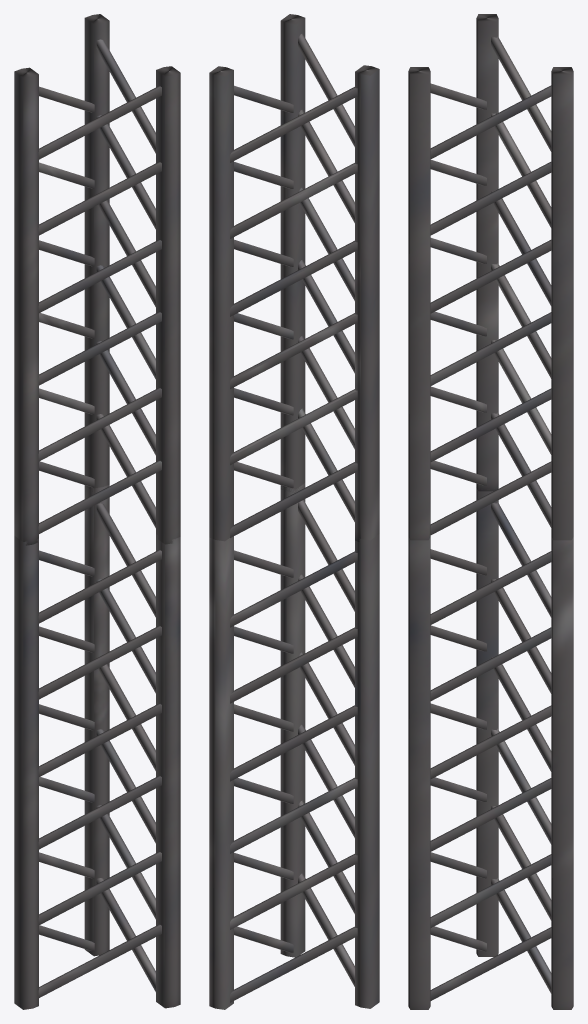
The model's file is TrackSuprtBeamJamie.fbx.
The picture shows the model from 3 angles, left to right: view 1: azimuth 30°, elevation 25°; view 2: azimuth 150°, elevation 25°; view 3: azimuth 270°, elevation 25°; orthographic projection.
Parts seen in each view (by area): view 1: track_support; view 2: track_support; view 3: track_support.
Boxes of the visible parts, <box> form: track_support: <box>14,14,180,1009</box>; track_support: <box>209,14,379,1009</box>; track_support: <box>408,14,573,1009</box>.
Bounding box in the file's own units: 4.96 × 35.69 × 5.71.
